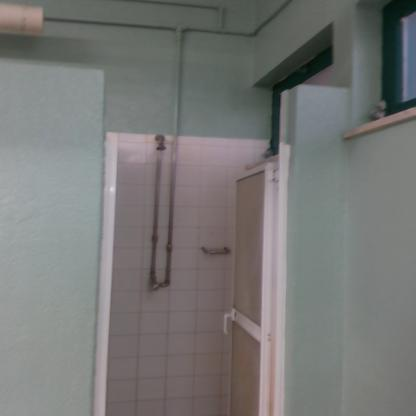open: (93, 119, 323, 416)
